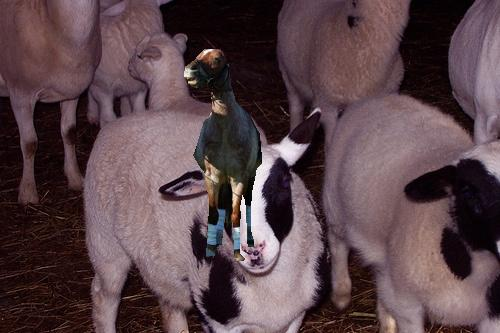tampered: (185, 50, 262, 261)
